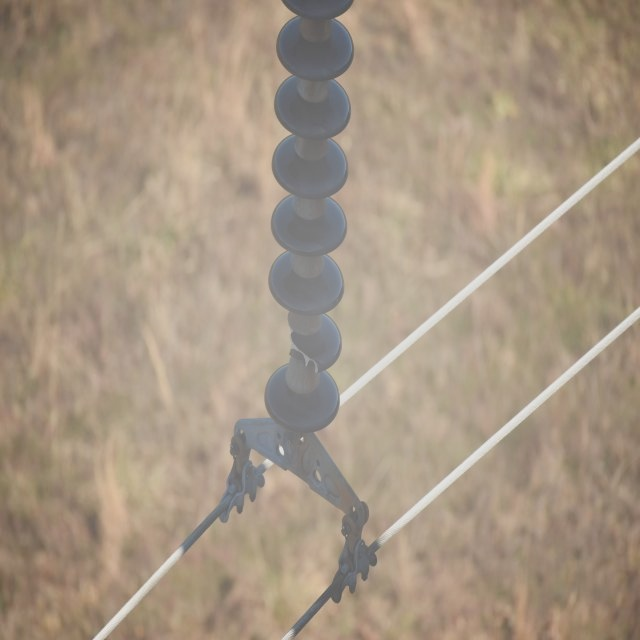broken: (285, 320, 325, 378)
insulator: (263, 0, 353, 432)
